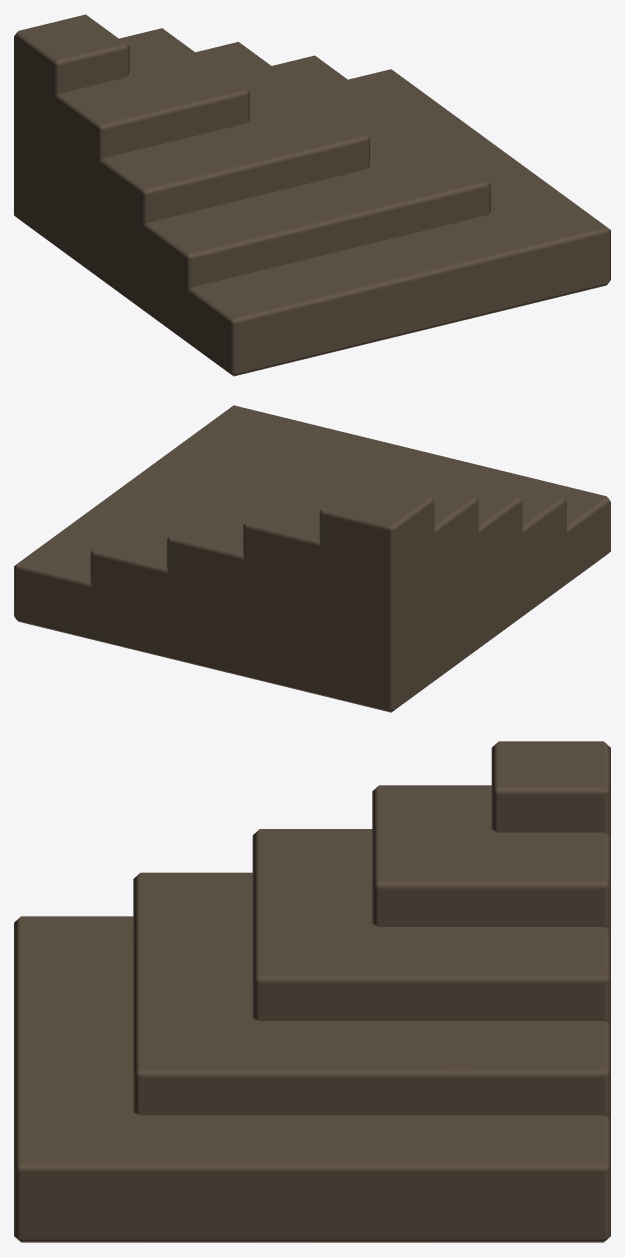
The model's file is ghost-town-roof-corner.77f981ef.glb.
3 views of the same model, one above another, from view 1: azimuth 30°, elevation 25°; view 2: azimuth 150°, elevation 25°; view 3: azimuth 270°, elevation 25° (orthographic). The views are drawn at different scales.
Parts seen in each view (by area): view 1: body; view 2: body; view 3: body.
Part boxes in pixels (x1=…): body: x1=14, y1=14, x2=610, y2=376; body: x1=14, y1=405, x2=610, y2=712; body: x1=14, y1=741, x2=610, y2=1242.
Bounding box in the file's own units: 1.2 × 0.565 × 1.2.
